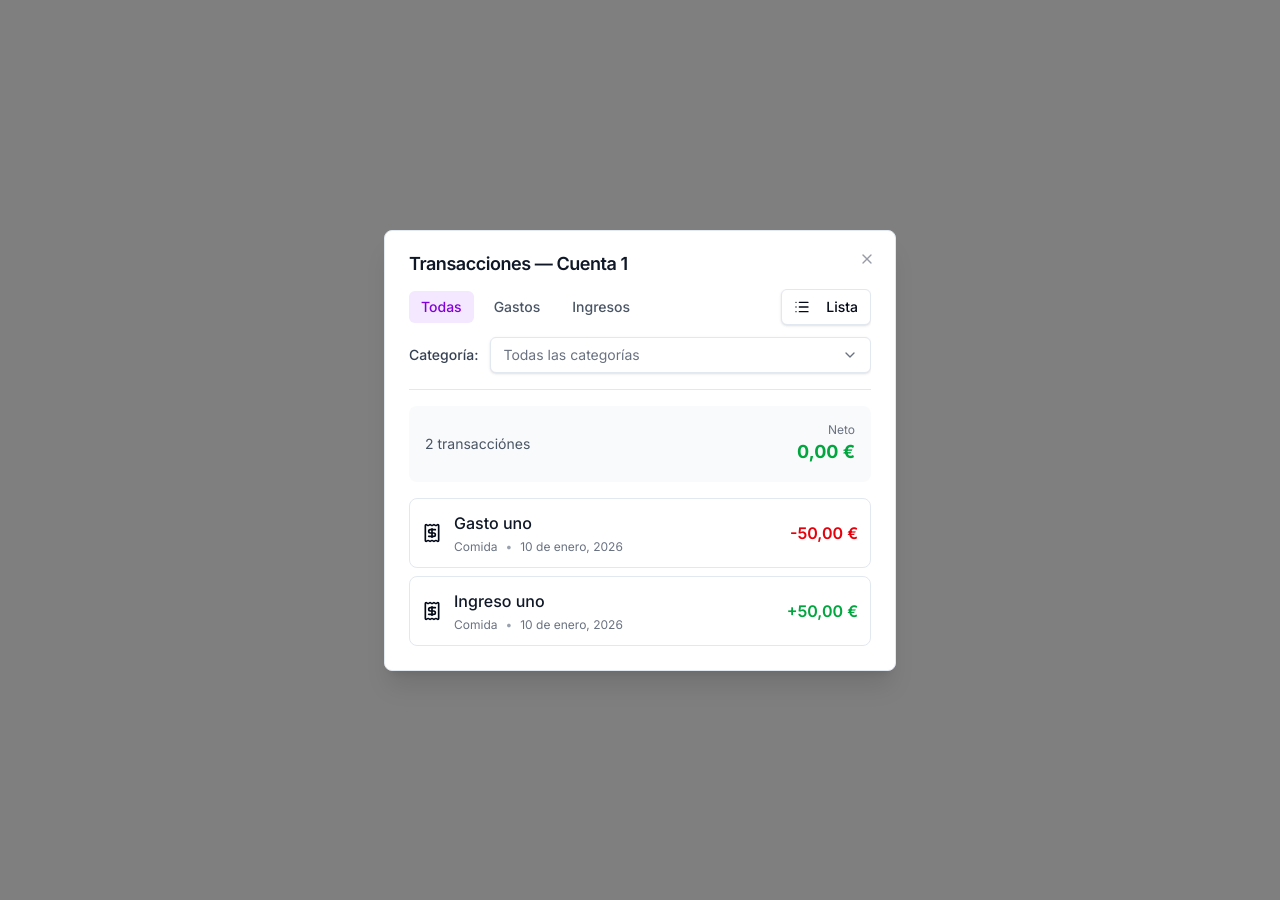
Test case: AccountTransactionsModal › filtro por tipo "Gastos" oculta los ingresos
Check: the text "Gasto uno" is shown, box left=454, top=510, right=532, bottom=534
Click the button "Gastos" at (517, 306), box left=482, top=290, right=552, bottom=322
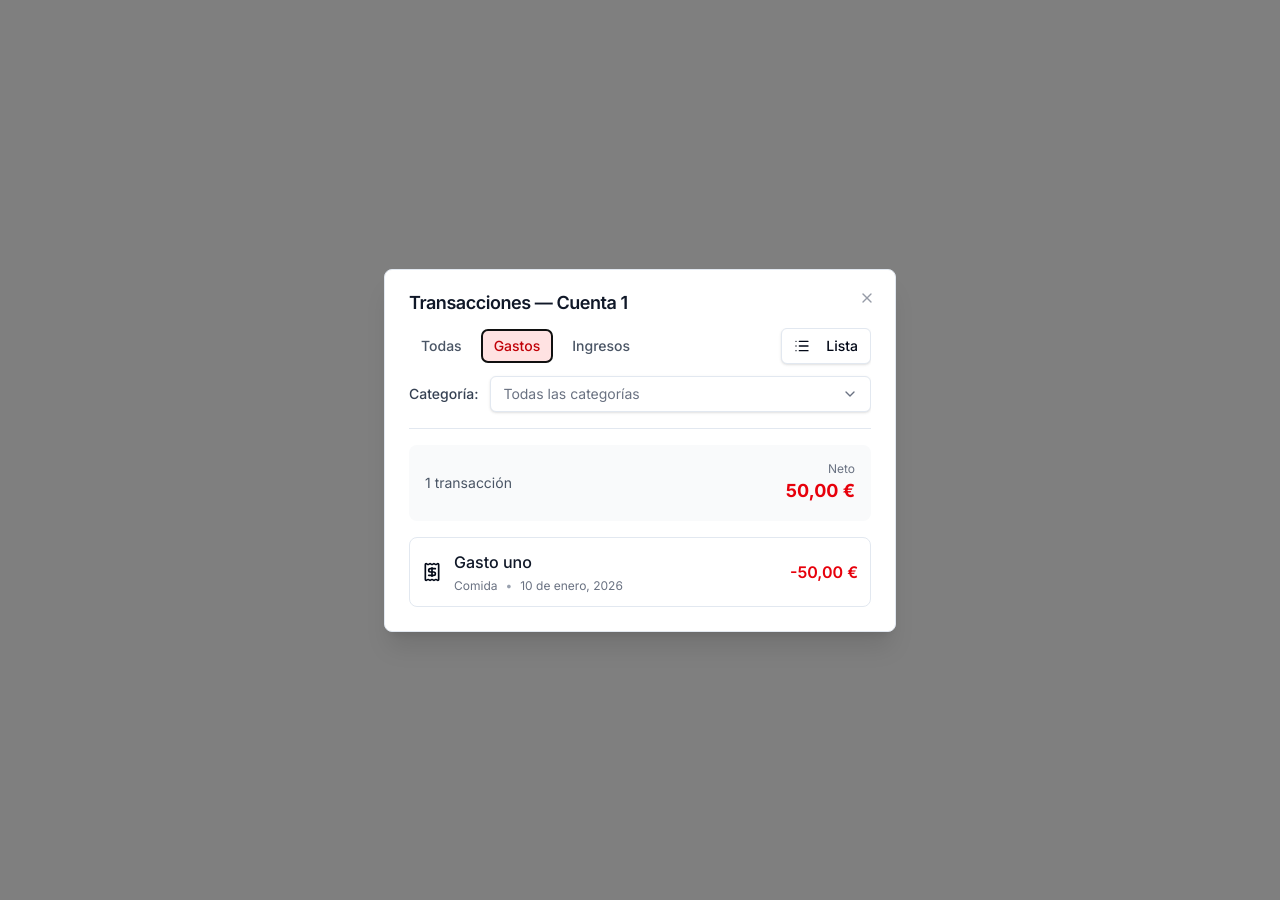
Check: the text "Gasto uno" is shown, box left=454, top=550, right=532, bottom=574
Check: the text "Ingreso uno" is gone
